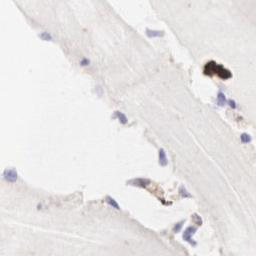nucleus: (183, 228, 198, 247), (173, 216, 188, 234), (177, 186, 195, 200), (113, 109, 128, 124), (158, 147, 169, 167), (105, 194, 120, 208), (3, 167, 18, 181), (215, 90, 226, 107), (145, 28, 165, 37), (240, 131, 252, 143), (128, 179, 149, 185), (38, 33, 52, 42), (228, 97, 236, 110), (96, 85, 103, 98), (80, 57, 89, 65), (194, 215, 201, 221)
positive_cell: (127, 178, 165, 203), (188, 209, 203, 224)
